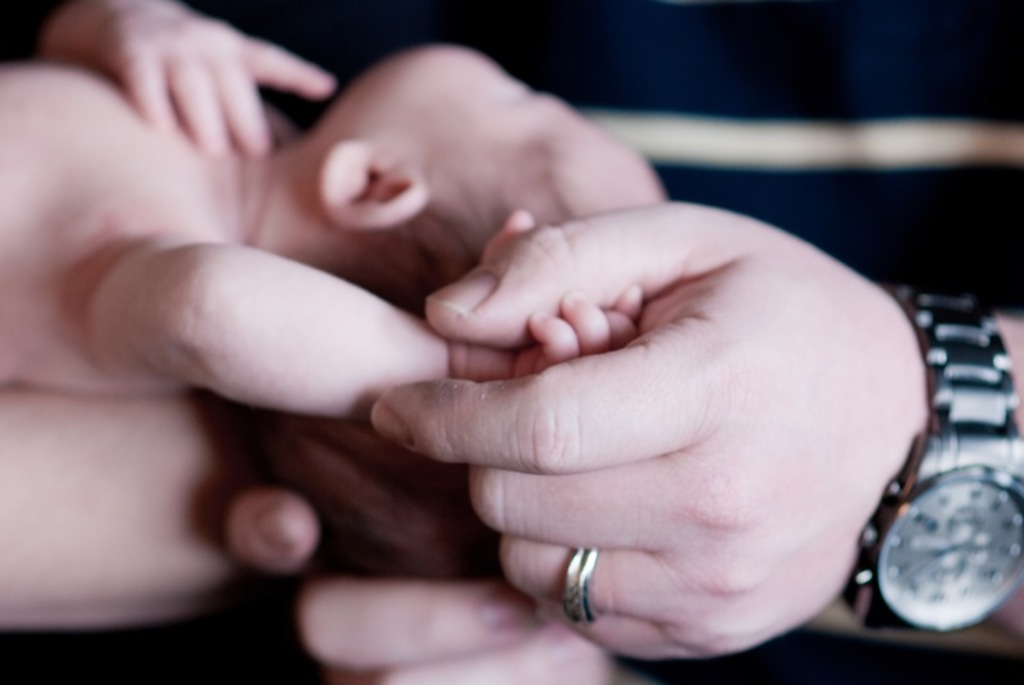Human_hand: (392, 174, 970, 644), (214, 487, 625, 684), (93, 0, 337, 160), (440, 206, 643, 387)
